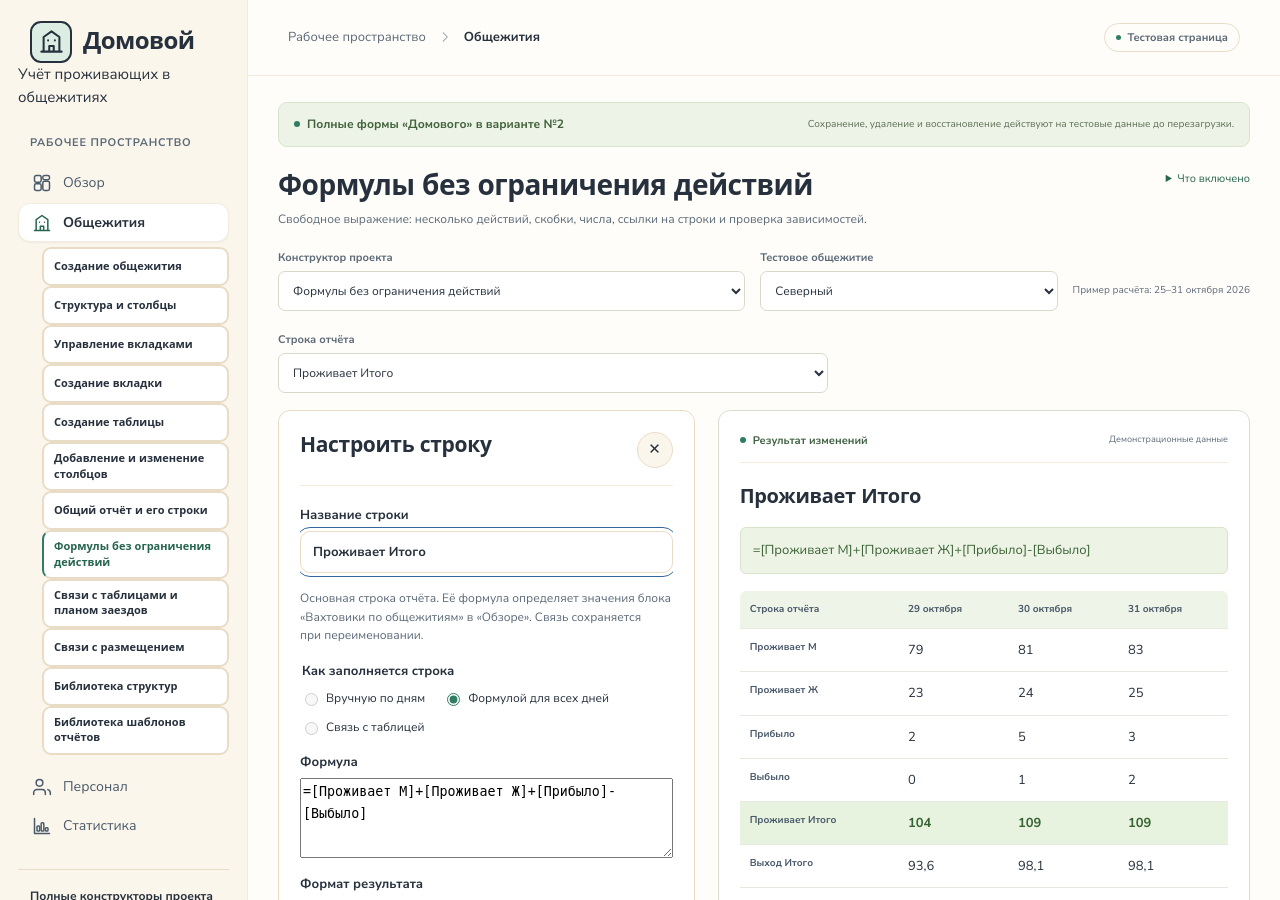
Test: Исходные конструкторы проекта в варианте №2 › позволяет записать формулу из нескольких действий и скобок и сохранить её
Step 1. Replace the text in the text box labelled "Формула" with "=([Проживает М]+[Проживает Ж])*2+[Прибыло]-[Выбыло]" → (486, 818), box [300, 778, 673, 858]
(page scrolled)
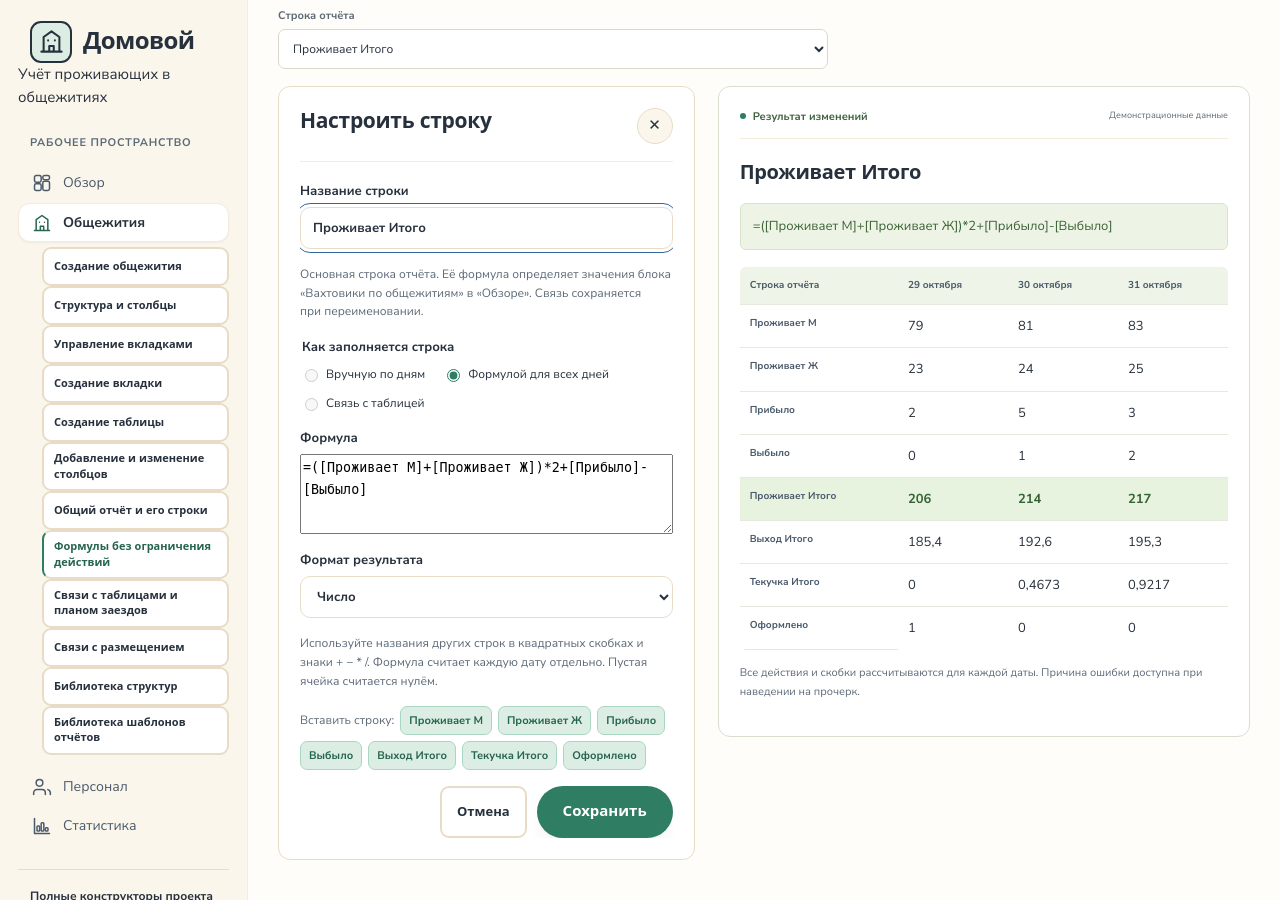
Expected: the text "217" is shown, [1118, 477, 1228, 520]
Step 2. Click the button "Сохранить" → (605, 812), box [537, 786, 673, 838]
(page scrolled)
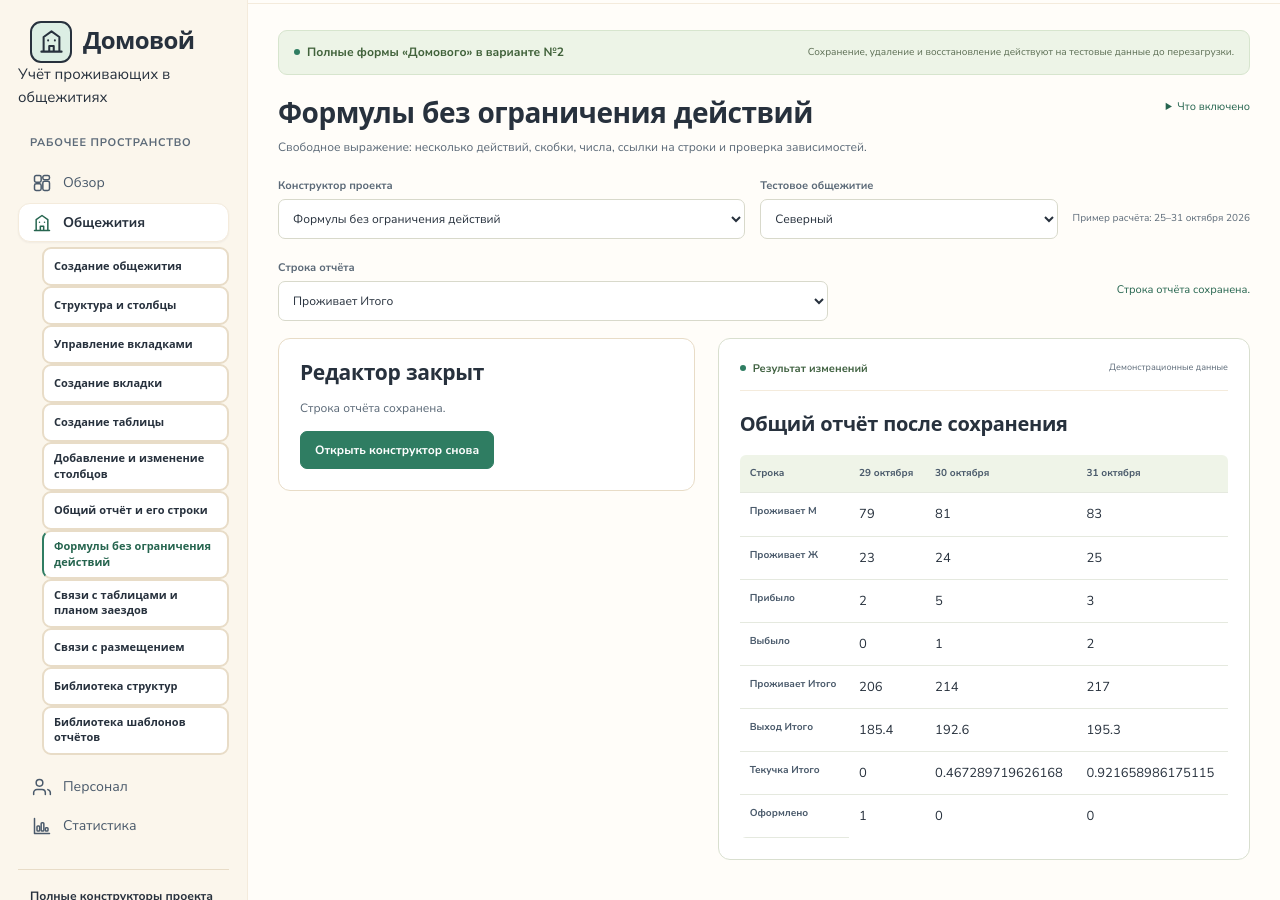
Step 3. Click the button "Открыть конструктор снова" → (397, 450), box [300, 431, 494, 469]
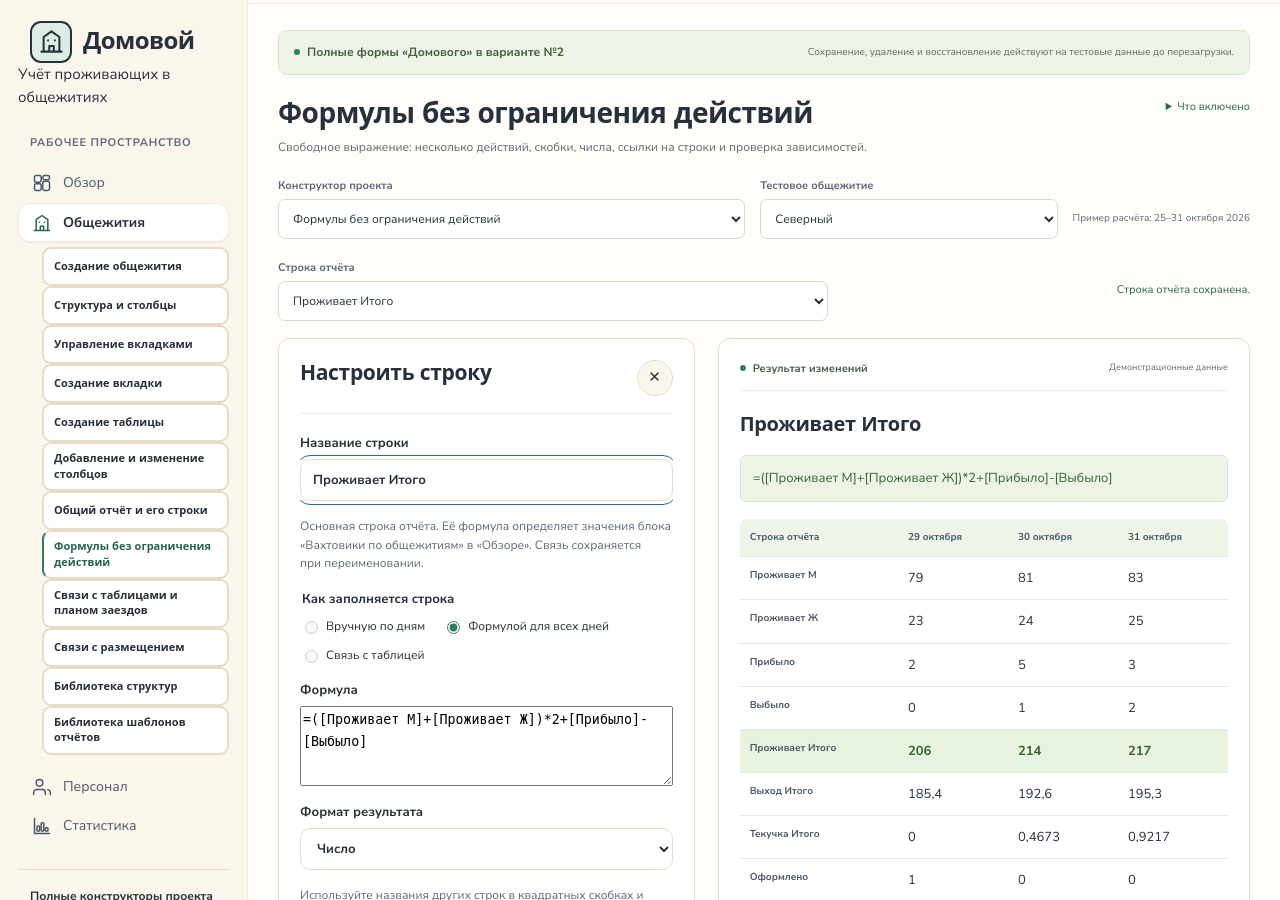
Expected: the text box labelled "Формула" holds "=([Проживает М]+[Проживает Ж])*2+[Прибыло]-[Выбыло]", [300, 706, 673, 786]
